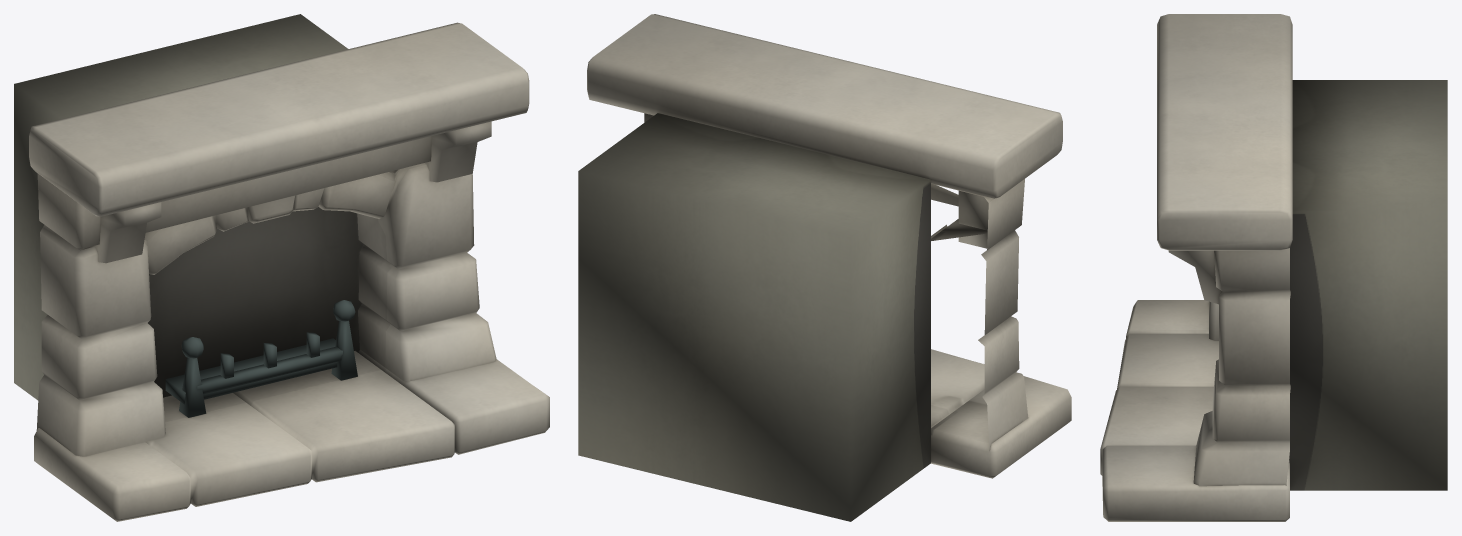
Rendered from fireplace.glb.
3 renders of one model, left to right at view 1: azimuth 30°, elevation 25°; view 2: azimuth 150°, elevation 25°; view 3: azimuth 270°, elevation 25°, orthographic. The views are drawn at different scales.
Parts seen in each view (by area): view 1: fireplace; view 2: fireplace; view 3: fireplace.
Boxes of the visible parts, x1,y1,x2,y2 form: fireplace: [14, 14, 549, 521]; fireplace: [578, 14, 1071, 521]; fireplace: [1100, 14, 1447, 521].
Bounding box in the file's own units: 0.998 × 0.752 × 0.7441.
1 material, 1 textured.
